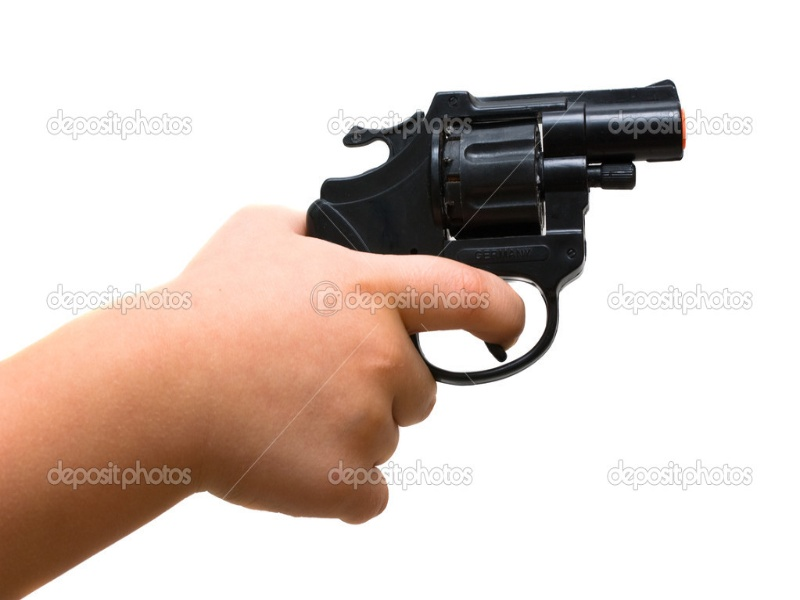gun: (286, 55, 701, 453)
